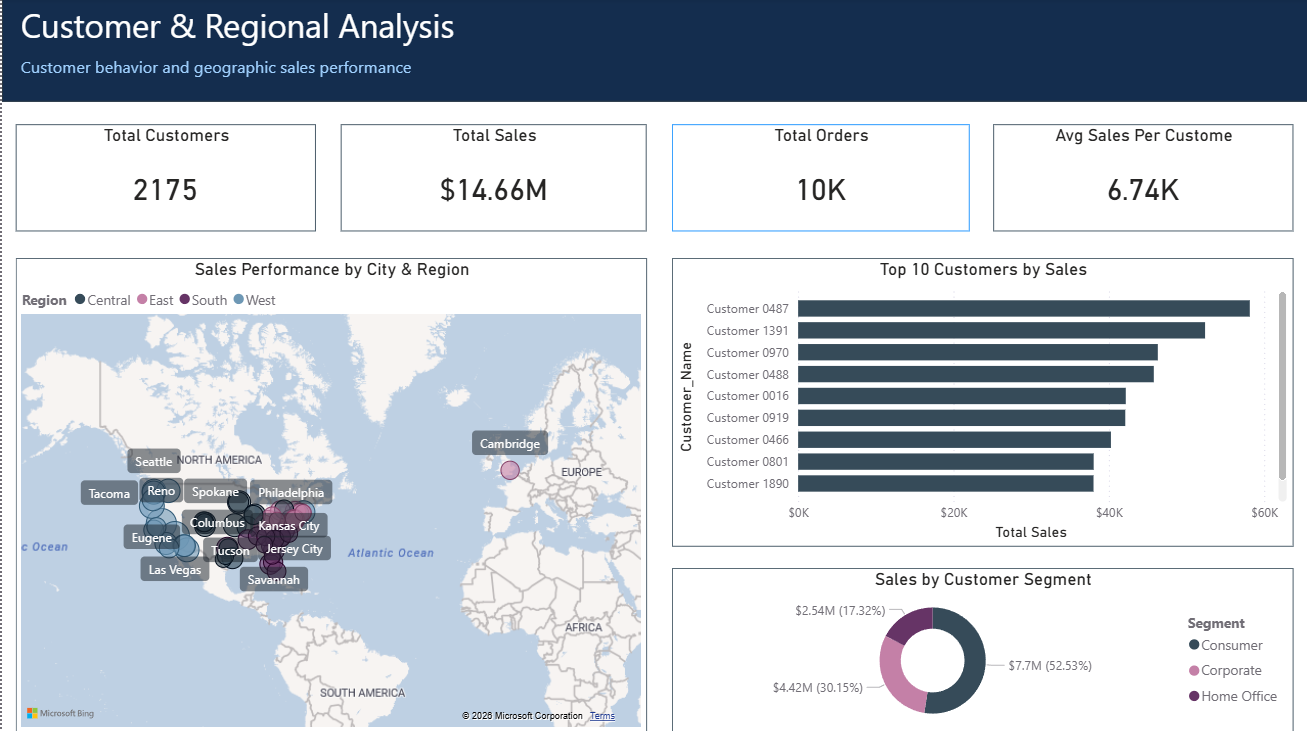

This screenshot's page, from the dashboard's own definition file:
{"tool":"powerbi","page":{"name":"Page 3","canvas":[1280,720],"ordinal":2},"visuals":[{"type":"map","title":"Sales Performance by City & Region","fields":{"Category":["sales_performance_10000.City"],"Series":["sales_performance_10000.Region"],"Size":["sales_performance_10000.Total Sales"]},"box":[13.5,254.3,617.5,465.9],"z":0},{"type":"shape","box":[0,0,1280.3,101.5],"z":1000},{"type":"textbox","box":[13.5,0,450,72.1],"z":2000},{"type":"textbox","box":[13.5,51.4,450,59.9],"z":3000},{"type":"card","title":"Total Customers","fields":{"Values":["sales_performance_10000.Total Customers"]},"box":[13.5,123.5,293.5,105.2],"z":4000},{"type":"card","title":"Total Sales","fields":{"Values":["sales_performance_10000.Total Sales"]},"box":[331.4,123.5,299.6,105.2],"z":5000},{"type":"card","title":"Total Orders","fields":{"Values":["sales_performance_10000.Total Orders"]},"box":[655.4,123.5,291,105.2],"z":6000},{"type":"card","title":"Avg Sales Per Custome","fields":{"Values":["Calendar.Avg Sales per Customer"]},"box":[969.7,123.5,293.5,105.2],"z":7000},{"type":"clusteredBarChart","title":"Top 10 Customers by Sales","fields":{"Category":["sales_performance_10000.Customer_Name"],"Y":["sales_performance_10000.Total Sales"]},"box":[655.4,254.3,607.7,282.5],"z":8000},{"type":"donutChart","title":"Sales by Customer Segment","fields":{"Category":["sales_performance_10000.Segment"],"Y":["sales_performance_10000.Total Sales"]},"box":[655.4,557.6,607.7,162.6],"z":9000}]}

Visuals, with their boxes in screenshot pixels (x1, y1, x2, y2), scaled from the page's 1280x720 canvas onto the 1307x731 screenshot:
"Sales Performance by City & Region" map: (left=14, top=258, right=644, bottom=730)
shape: (left=0, top=0, right=1306, bottom=103)
textbox: (left=14, top=0, right=473, bottom=73)
textbox: (left=14, top=52, right=473, bottom=113)
"Total Customers" card: (left=14, top=125, right=313, bottom=232)
"Total Sales" card: (left=338, top=125, right=644, bottom=232)
"Total Orders" card: (left=669, top=125, right=966, bottom=232)
"Avg Sales Per Custome" card: (left=990, top=125, right=1290, bottom=232)
"Top 10 Customers by Sales" clusteredBarChart: (left=669, top=258, right=1290, bottom=545)
"Sales by Customer Segment" donutChart: (left=669, top=566, right=1290, bottom=730)
